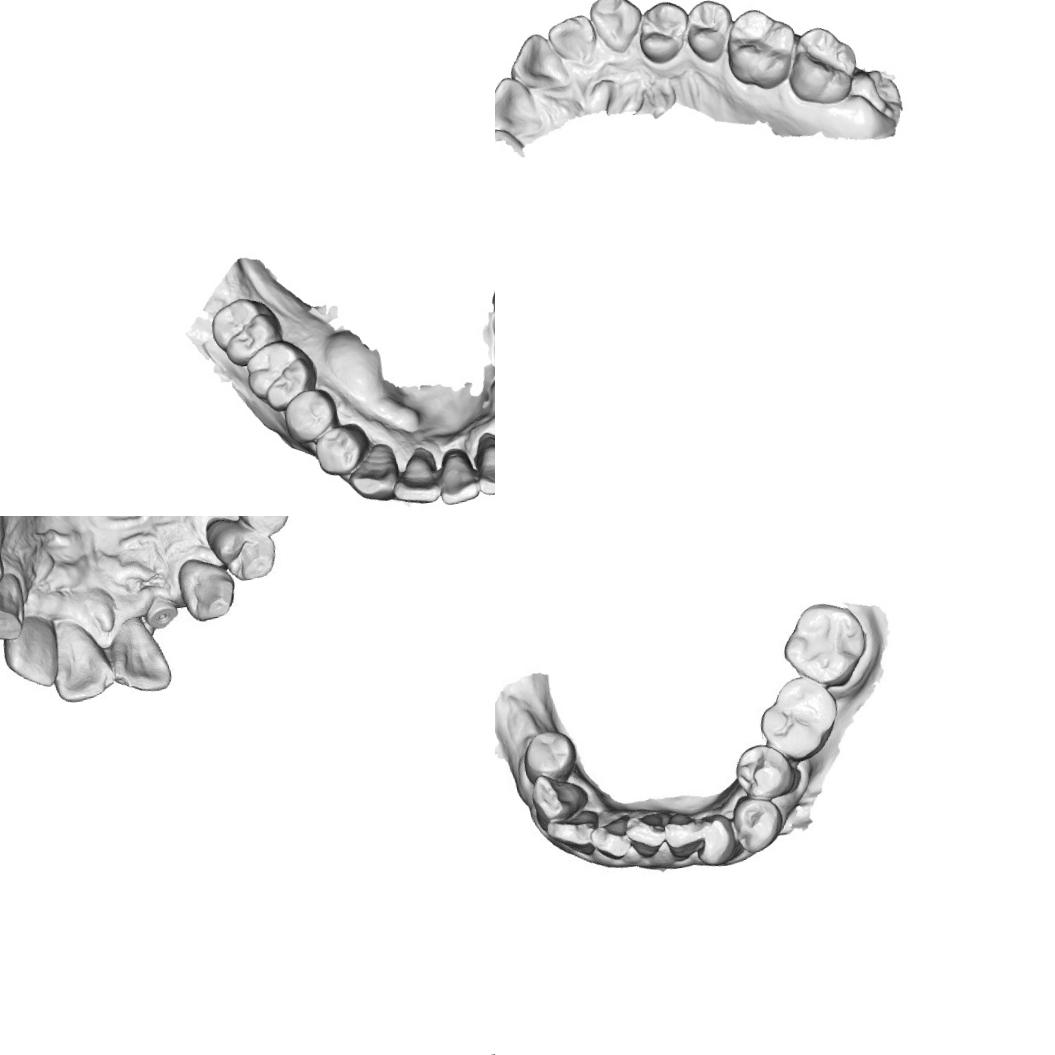canine: (172, 551, 239, 626), (344, 440, 400, 506), (586, 0, 647, 57), (527, 769, 588, 824), (688, 809, 739, 868), (0, 569, 32, 640)
implant: (147, 596, 178, 632)
incisor: (48, 611, 122, 707), (108, 611, 172, 701), (0, 611, 65, 697), (503, 29, 571, 94), (387, 450, 443, 509), (495, 73, 539, 140), (432, 450, 482, 508), (545, 12, 600, 64), (625, 808, 672, 861), (660, 814, 704, 864), (546, 808, 596, 851), (591, 813, 635, 861), (470, 439, 495, 502)
molar: (776, 598, 872, 694), (756, 674, 850, 766), (721, 3, 803, 95), (781, 22, 862, 110), (238, 334, 322, 416), (205, 294, 286, 370)
premolar: (209, 516, 277, 585), (723, 792, 790, 861), (633, 0, 694, 67), (280, 382, 342, 446), (734, 741, 798, 802), (681, 0, 737, 65), (310, 420, 370, 478), (520, 726, 578, 781), (221, 516, 292, 539)
